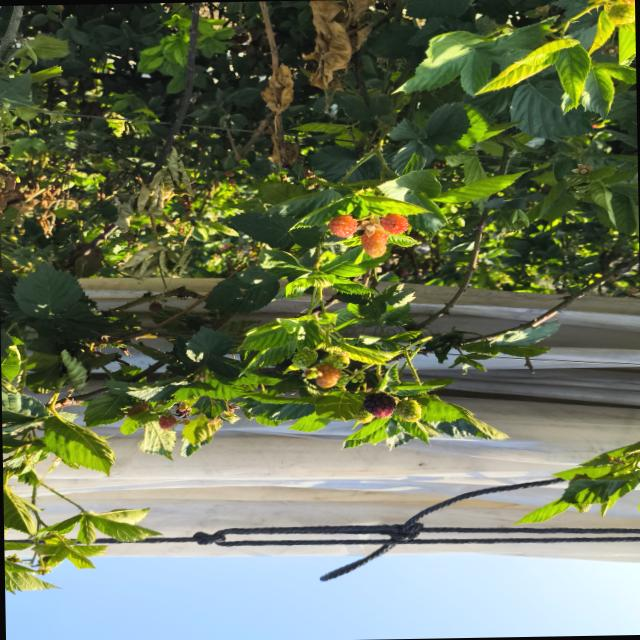marron: (363, 392, 395, 418)
naranja: (360, 230, 387, 257), (328, 214, 357, 237), (315, 363, 341, 388), (380, 213, 409, 234), (158, 415, 176, 429)
verde: (395, 399, 421, 422), (607, 3, 635, 24), (292, 349, 317, 369), (326, 351, 349, 369), (353, 406, 374, 423)
